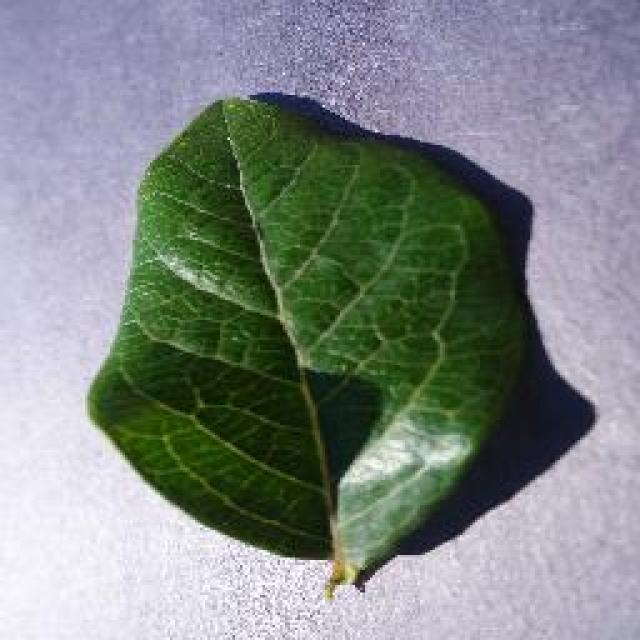Blu_healthy: (114, 114, 492, 512)
